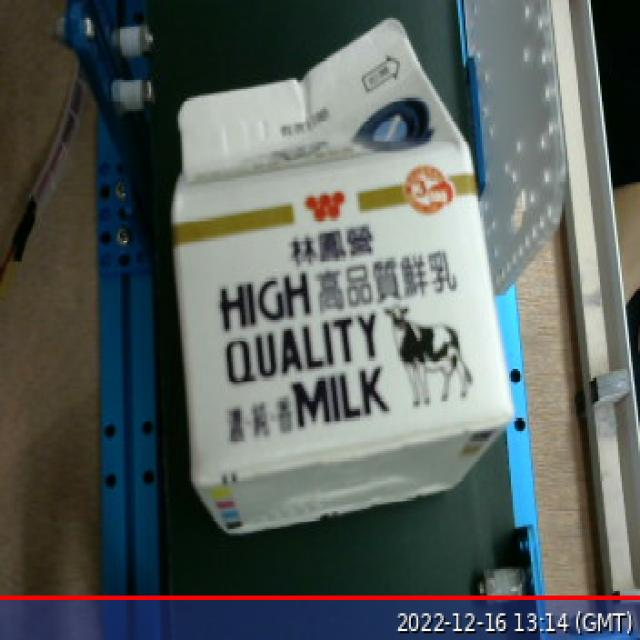non_white_jug: (159, 4, 533, 544)
